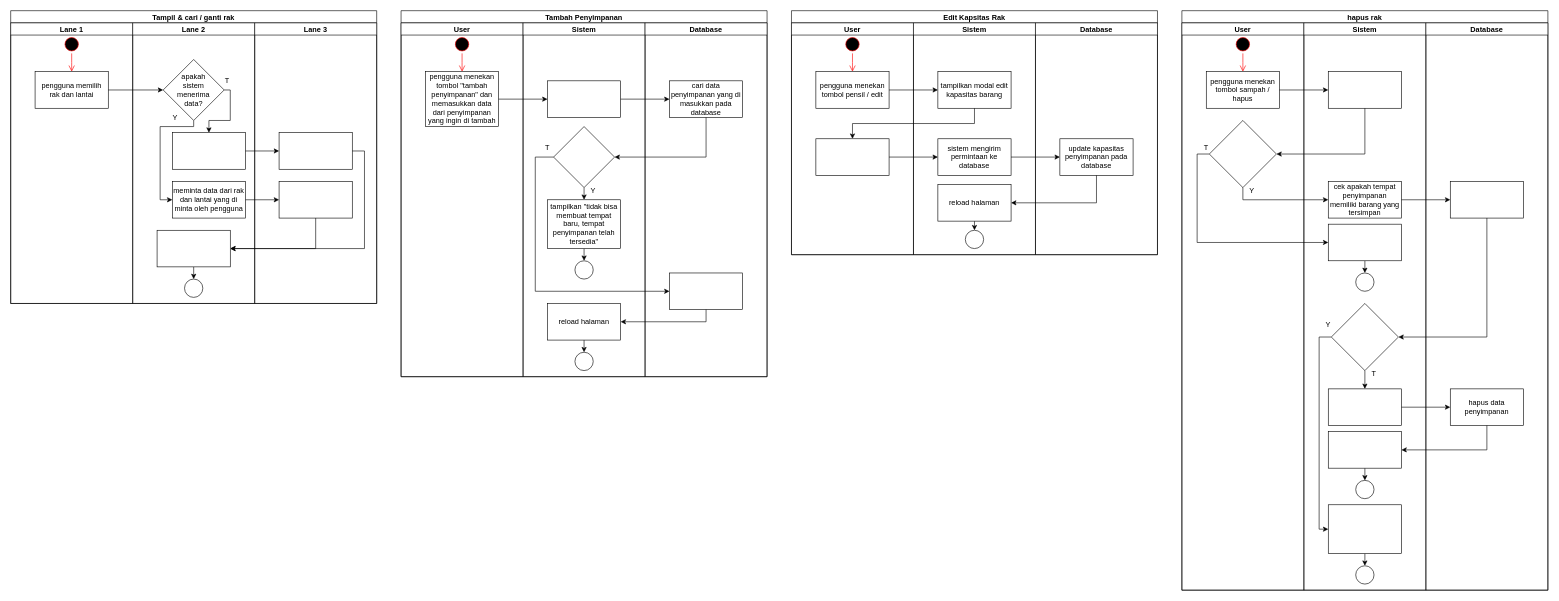
The diagram is 1559 pixels wide and 601 high, and some of its shapes have lost their labels. The shapes that lost their labels are listed below. From the top down, each one's centre as x and y in pixels, then its label:
point 584,98: proses data yang di masukkan oleh pengguna
point 1364,89: tampilkan jendela penghapusan rak
point 209,150: meminta data dari rak 1 dan lantai 1
point 315,150: ambil data dari rak 1 dan lantai 1
point 584,157: apaka data ada yang sama?
point 852,156: pengguna memasukkan kapasitas barang
point 1242,154: apakah pengguna menghapus penyimpanan?
point 315,199: ambil data dari rak dan lantai yang diminta
point 1486,199: hitung data barang yang di simpan pada penyimpanan
point 193,248: tampilkan data yang telah di ambil dari database
point 1364,242: tutup jendela hapus penyimpanan
point 706,291: masukkan data masukan pengguna ke database
point 1364,337: apakah barang yang di simpan lebih dari 0?
point 1364,406: kirim perintah ke databse untuk menghapus penyimpanan
point 1364,449: tampilkan pesan "berhasil menghapus penyimpanan"
point 1364,529: tampilkan pesan "ada barang pada penyimpanan, gagal menghapus penyimpanan"
